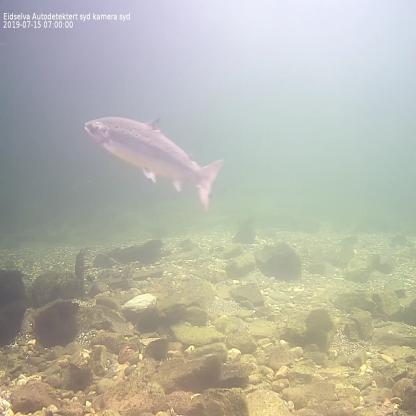salmon: (82, 112, 226, 212)
